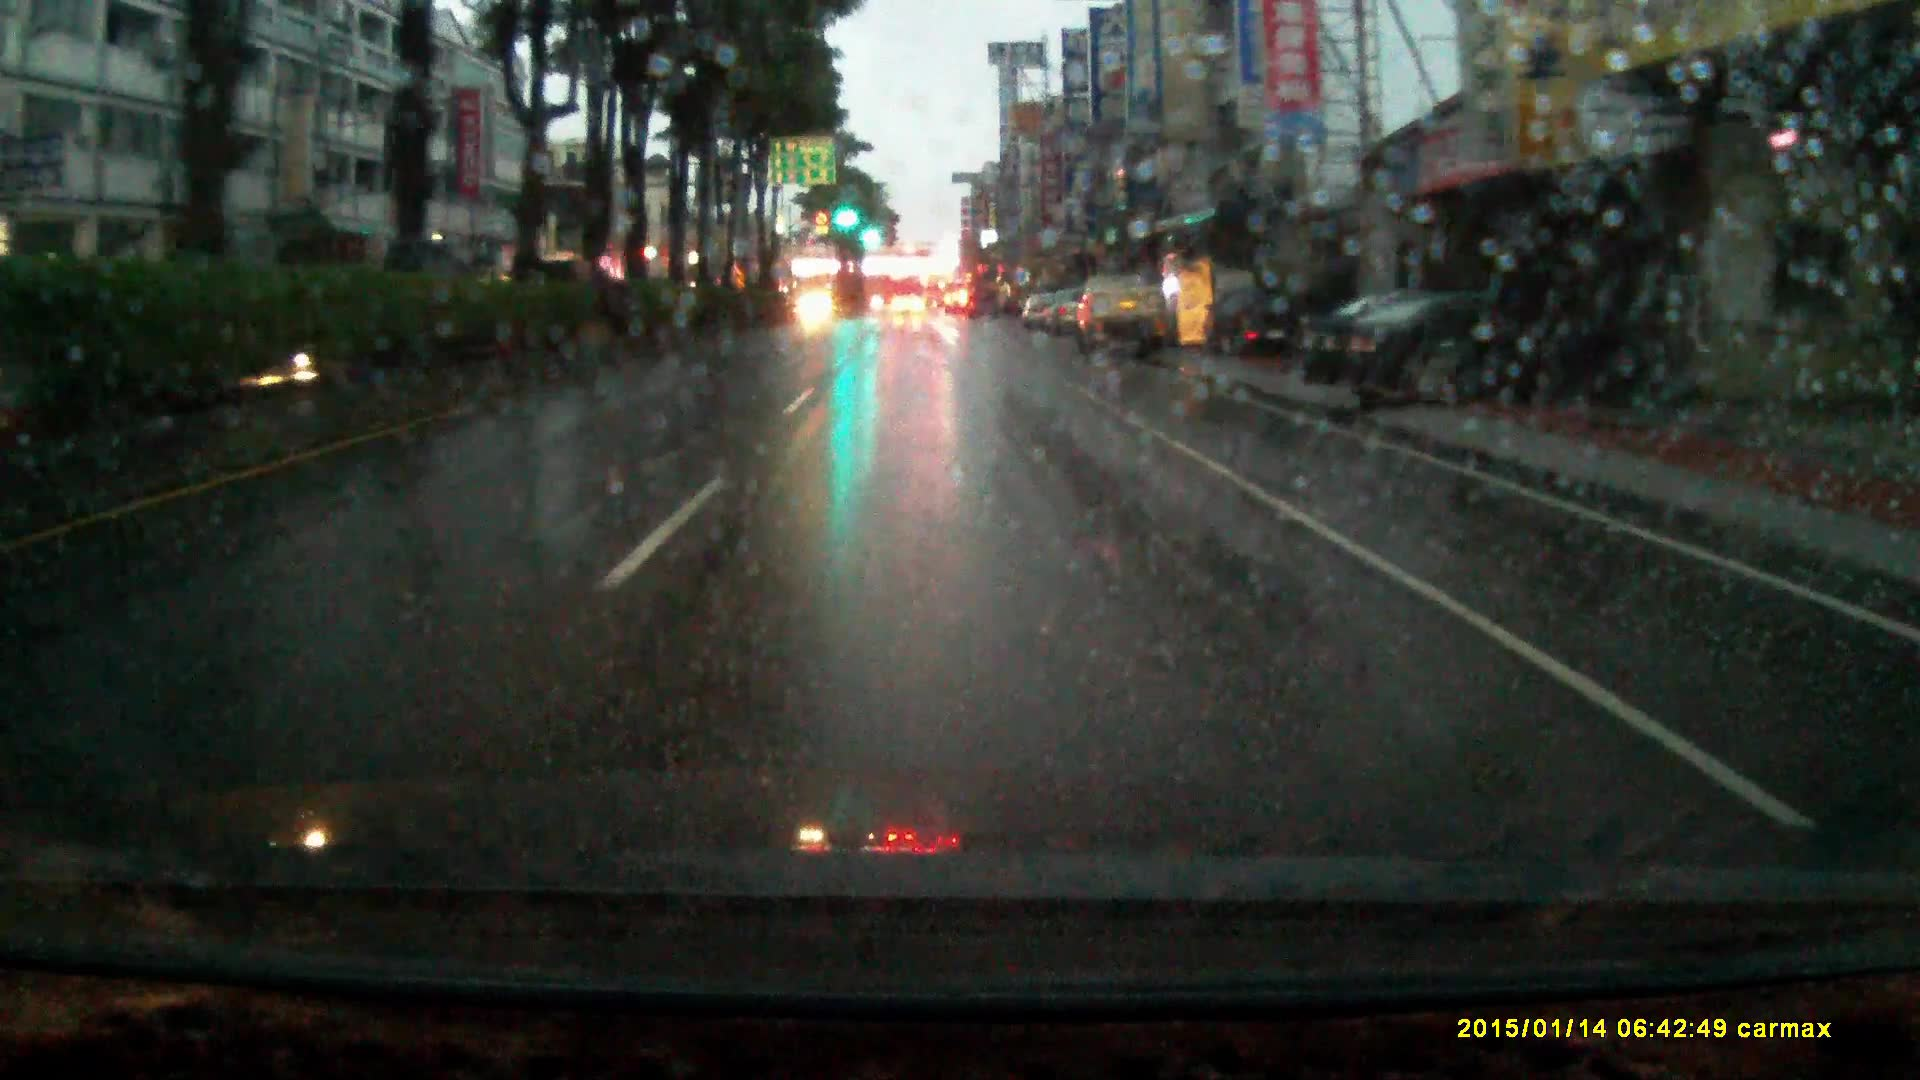vehicle: (1288, 298, 1671, 409), (1077, 276, 1168, 360), (1203, 294, 1304, 367), (795, 291, 837, 335), (891, 295, 927, 320), (924, 280, 947, 313)
